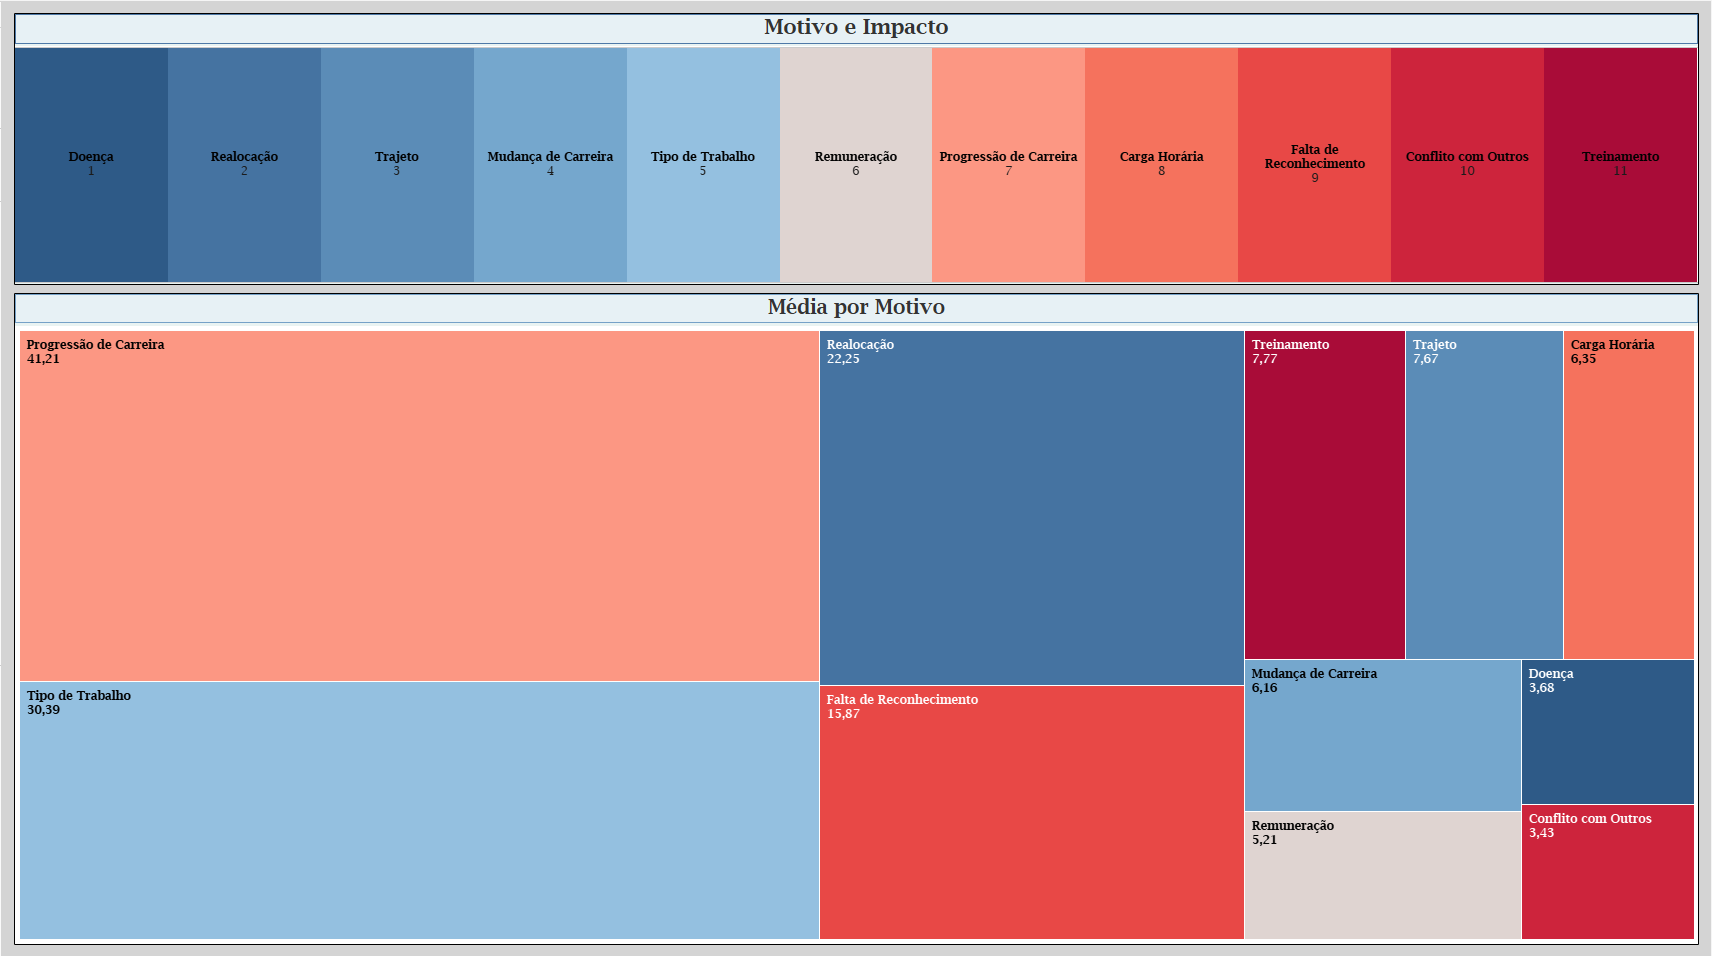

This screenshot's page, from the dashboard's own definition file:
{"tool":"tableau","page":{"name":"Impacto e Medias de Motivos","canvas":[1000,1000],"units":"permille","ordinal":3},"visuals":[{"type":"worksheet","title":"Motivo e Impacto","mark":"Square","cols":["F1"],"box":[4.7,8.4,990.6,292.9]},{"type":"worksheet","title":"Média por Motivo","mark":"Automatic","box":[4.7,301.3,990.6,690.4]}]}

Visuals, with their boxes on the dashboard's canvas, which has no fixed pixel size, in thousandths of its width and height (x1, y1, x2, y2). These are canvas units, not pixel positions in the 1712x956 screenshot, which may show the page scaled, cropped or inside an application window:
"Motivo e Impacto" worksheet (Square marks): crop(5, 8, 995, 301)
"Média por Motivo" worksheet: crop(5, 301, 995, 992)
